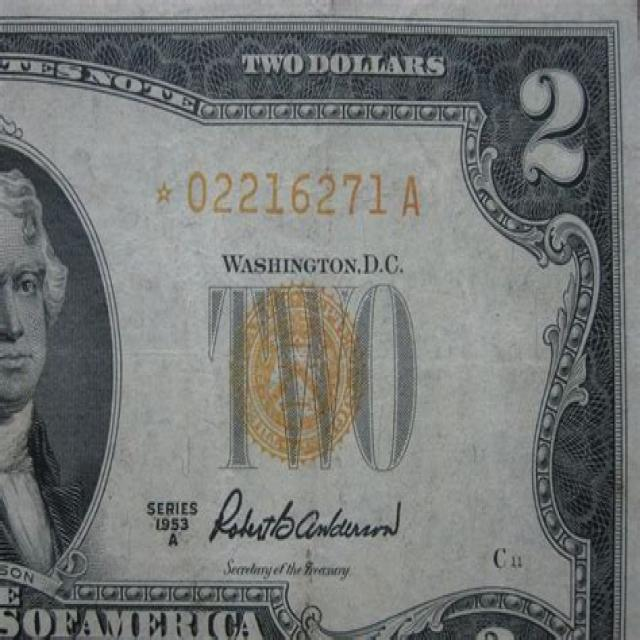Two: (0, 0, 639, 640)
